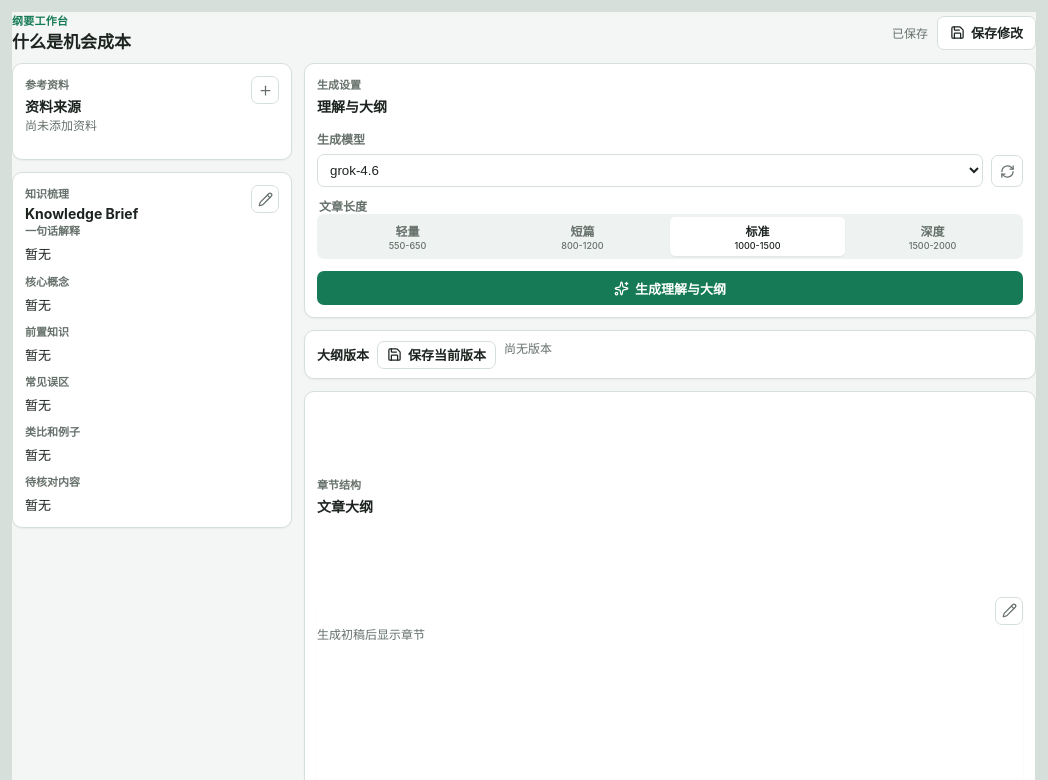
Test: OutlineWorkspace › generates an outline with the selected model and standard length
Select "writer-large" in the dropdown labelled "生成模型" at (650, 171), box [317,154,983,187]
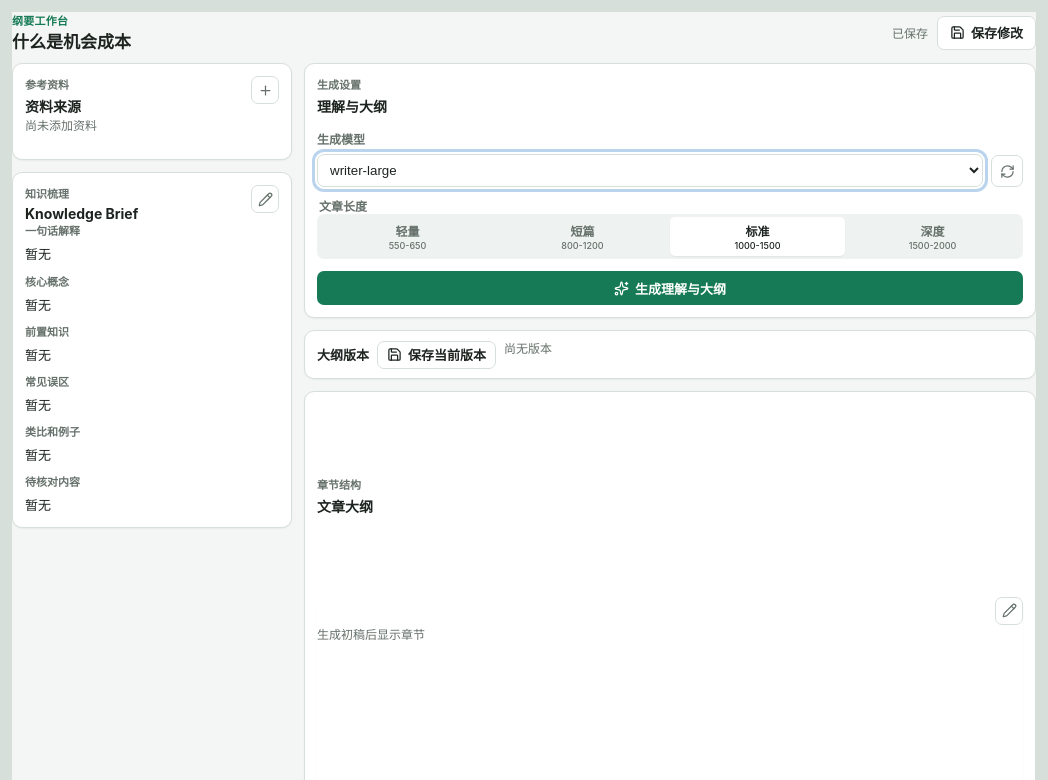
Click the button "生成理解与大纲" at (670, 288), box [317,271,1023,305]
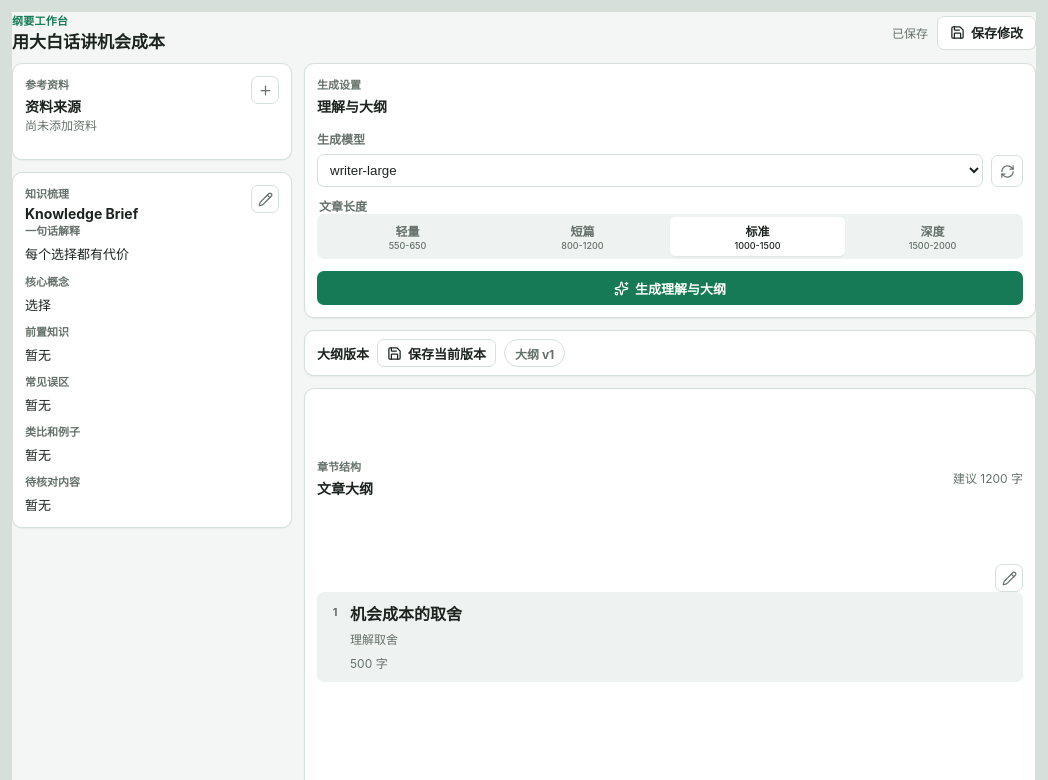
Expected: the heading "用大白话讲机会成本" is shown, [12,32,165,53]
